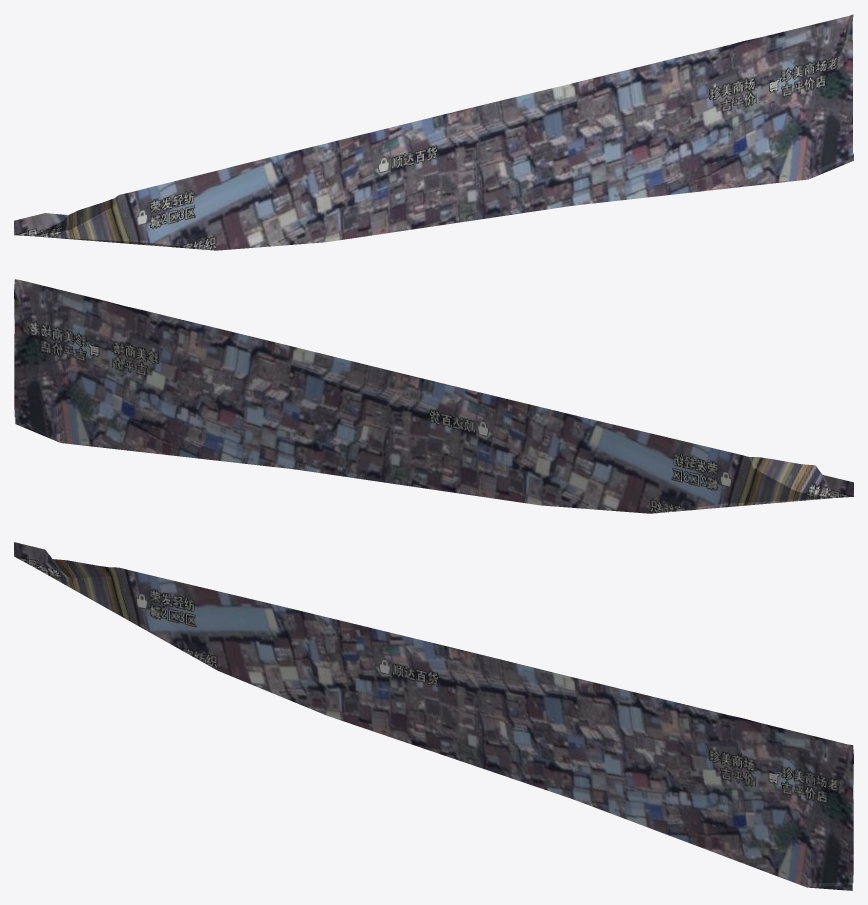
3 views of the same model, one above another, from view 1: azimuth 30°, elevation 25°; view 2: azimuth 150°, elevation 25°; view 3: azimuth 330°, elevation 25° (orthographic).
Visible parts, largest first — view 1: 0_3_2_1_1_1; view 2: 0_3_2_1_1_1; view 3: 0_3_2_1_1_1.
Part boxes in pixels (x1,y1,x2,y2): 0_3_2_1_1_1: (14,14,853,250); 0_3_2_1_1_1: (14,279,853,513); 0_3_2_1_1_1: (14,542,853,890).
Size of the model in its own units: 486 by 84.93 by 10.43.
Materials: 1 (1 with a texture image).
